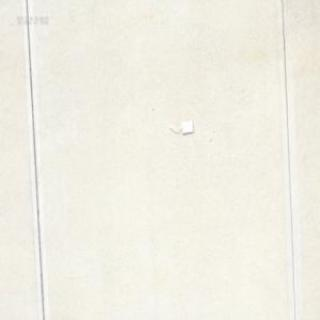LuggageTagtrack_idkeyframe: (168, 118, 193, 136)
